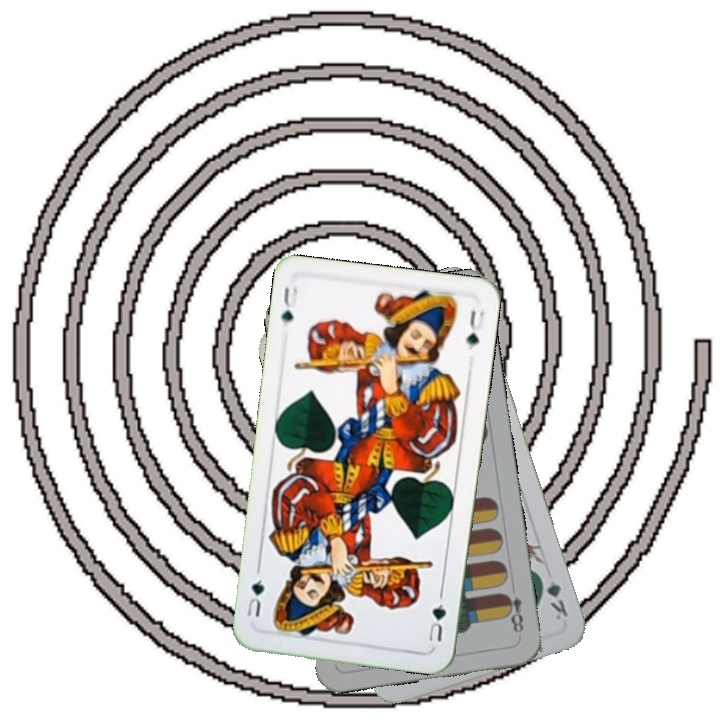E8: (499, 589, 527, 636)
GK: (535, 569, 571, 623)
GU: (424, 600, 449, 644), (277, 282, 301, 325)
